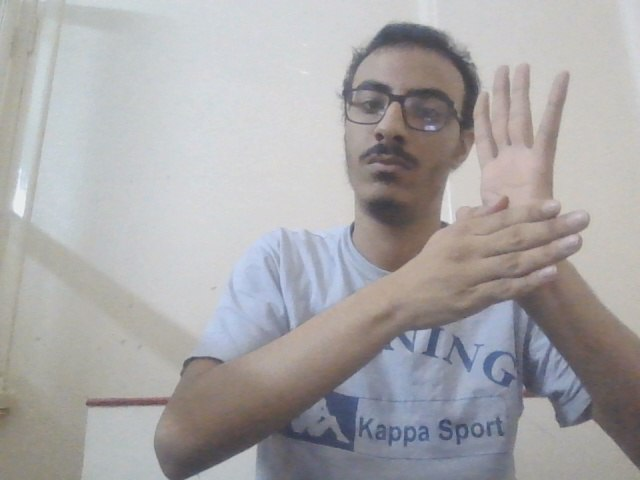Movie: (410, 60, 595, 332)
